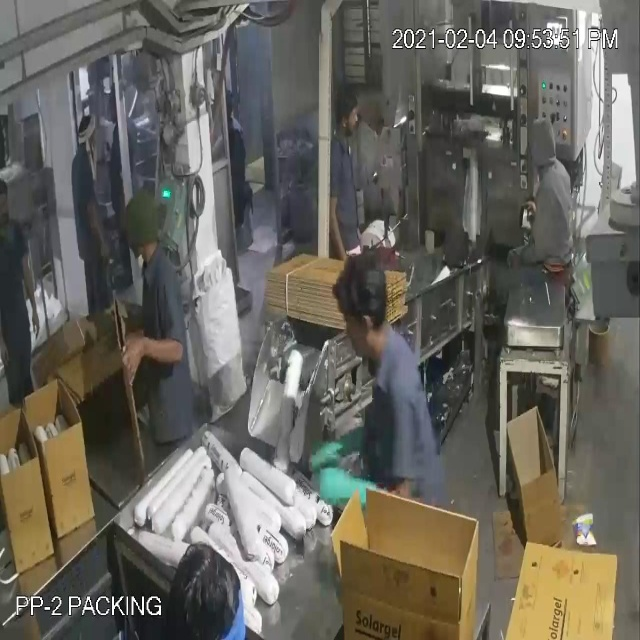Guantes: (311, 462, 384, 532), (302, 428, 371, 482)
Sin_guantes: (119, 322, 184, 390), (18, 245, 51, 342), (81, 180, 111, 261), (324, 185, 350, 277)
